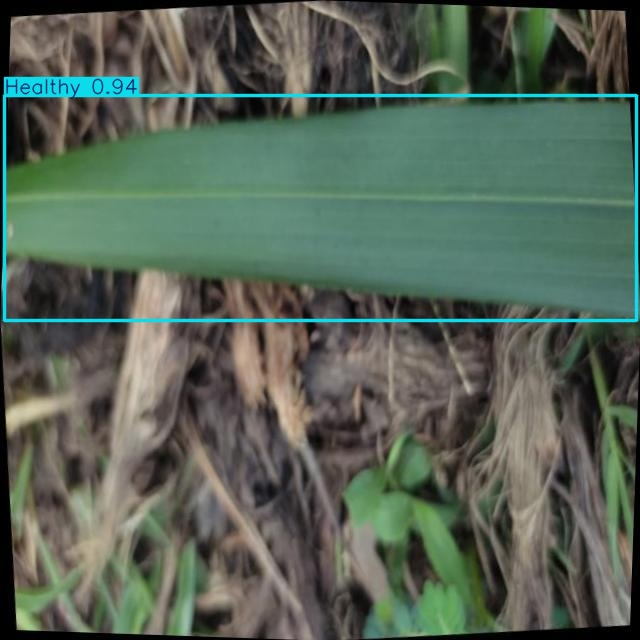Healthy: (5, 96, 637, 320)
